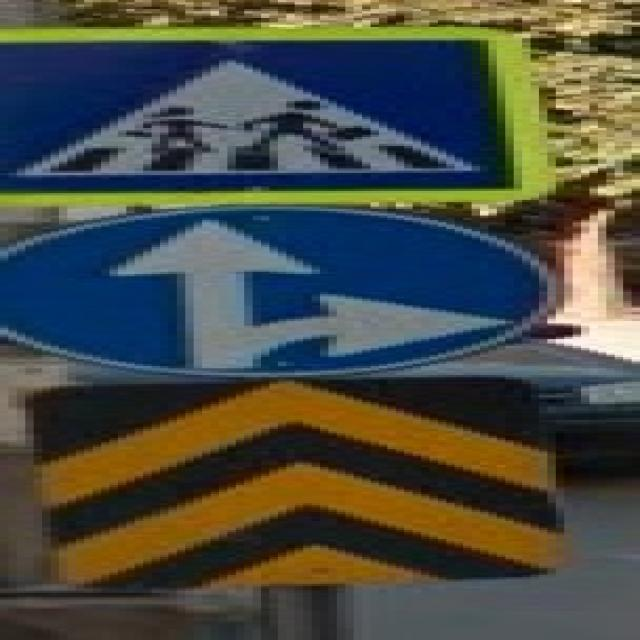Straight or Right: (5, 207, 561, 373)
